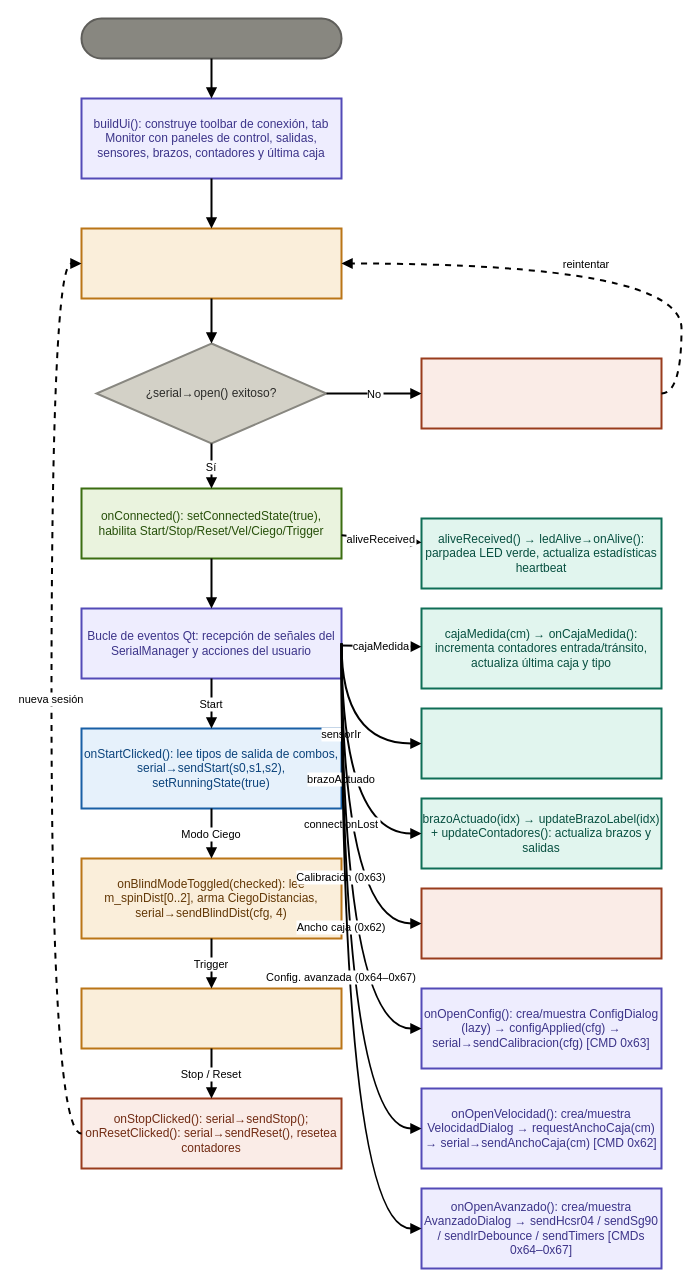
Image size: 699x1286. Some labels were removed from this diagram. The centre of each missing label's shape, as x and y in pixels:
"connectionLost() → onConnectionLost(): muestra alerta, llama onDisconnected()" goes at (541,923).
"Inicio: main() crea QApplication y MainWindow" goes at (211,38).
"onTriggerClicked(): serial→sendTrigger() — disparo manual de medición (CMD 0x61)" goes at (211,1018).
"sensorIrActualizado(n, activo) → updateIrLabel(n): cambia color del indicador IR" goes at (541,743).
"statusMsg(error): muestra mensaje en barra de estado; UI permanece desconectada" goes at (541,393).
"Usuario selecciona puerto COM y baudrate; presiona Conectar → onConnectClicked()" goes at (211,263).
